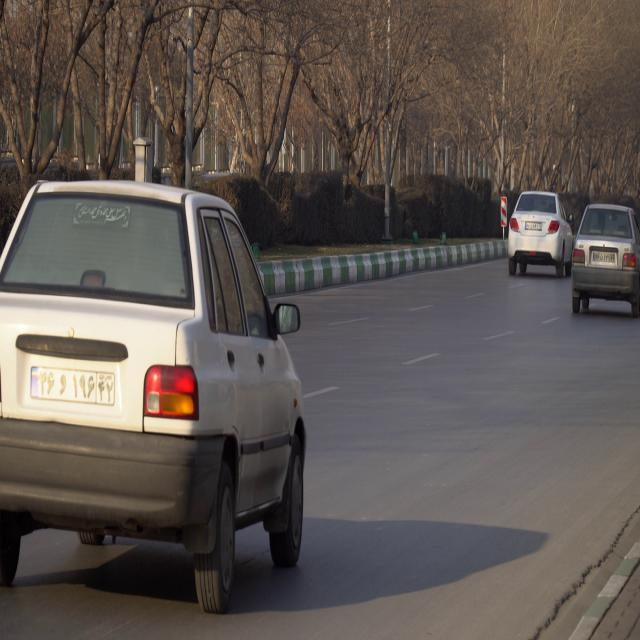car: (1, 179, 308, 608), (569, 205, 640, 311), (508, 191, 575, 276)
